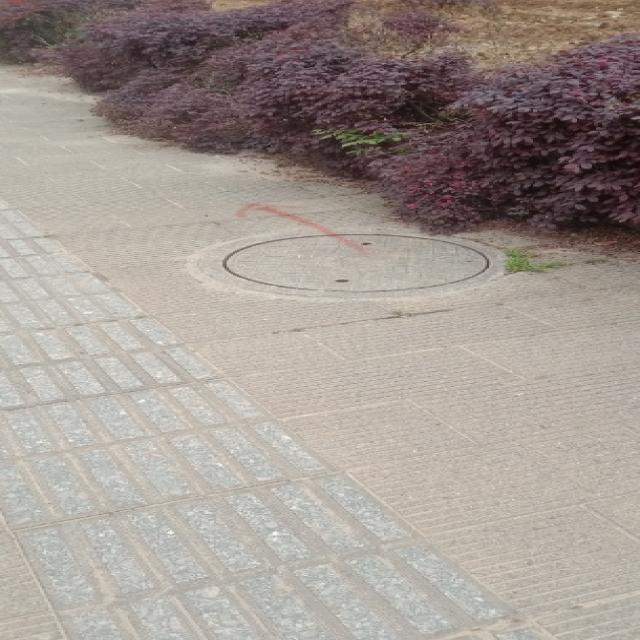Good: (182, 219, 520, 304)
